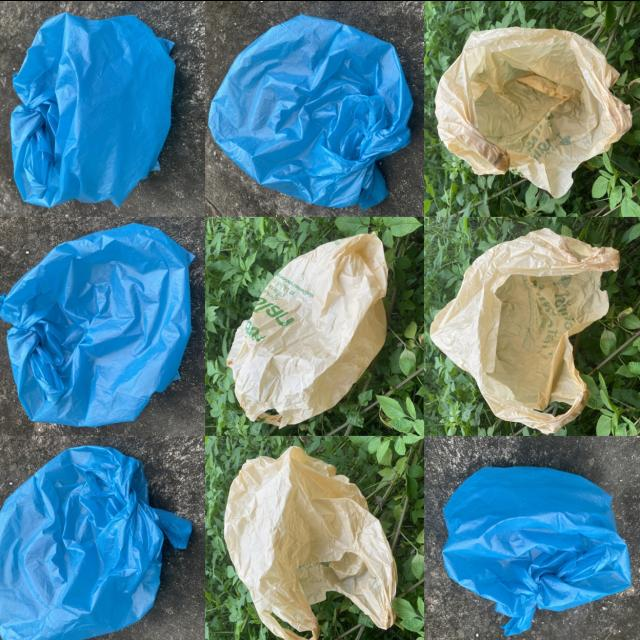plastik: (209, 15, 413, 207), (0, 223, 193, 425), (430, 228, 619, 432), (0, 445, 191, 640), (435, 26, 632, 197), (225, 445, 396, 640), (11, 12, 175, 206), (443, 467, 630, 635), (227, 233, 388, 425)
